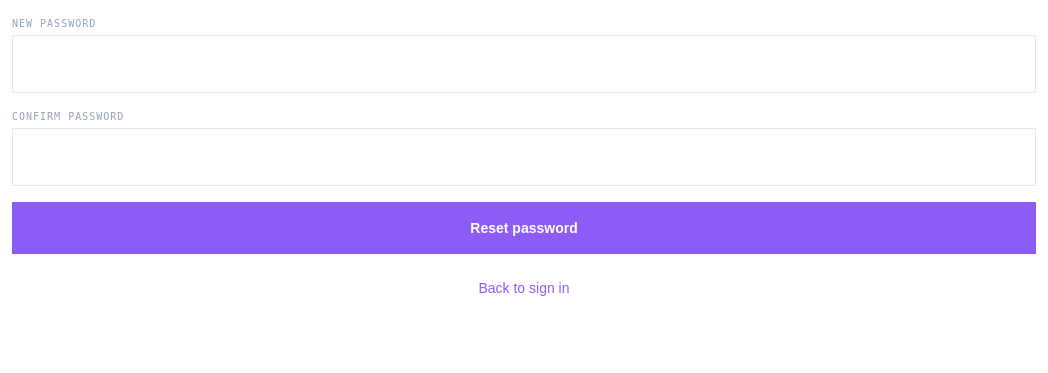
Test: ResetPasswordForm › shows an error message when reset fails
Type "newpassword123" into the password field labelled "New password" at [524, 64], box [12,35,1036,93]
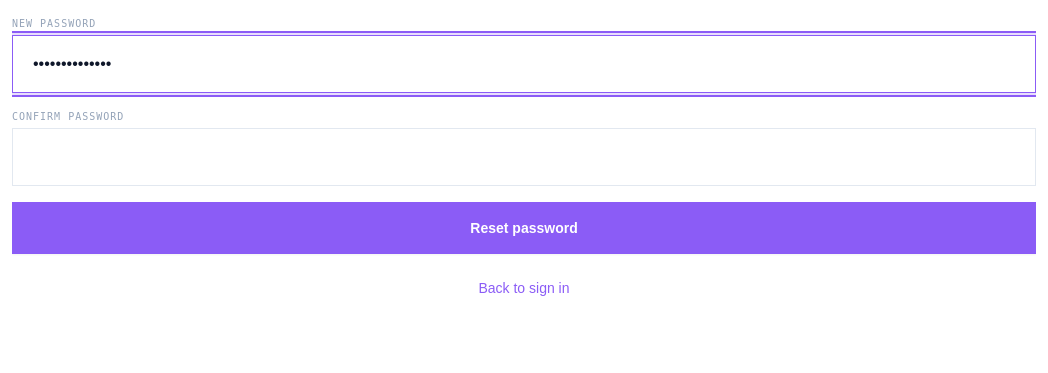
Type "newpassword123" into the password field labelled "Confirm password" at [524, 157], box [12,128,1036,186]
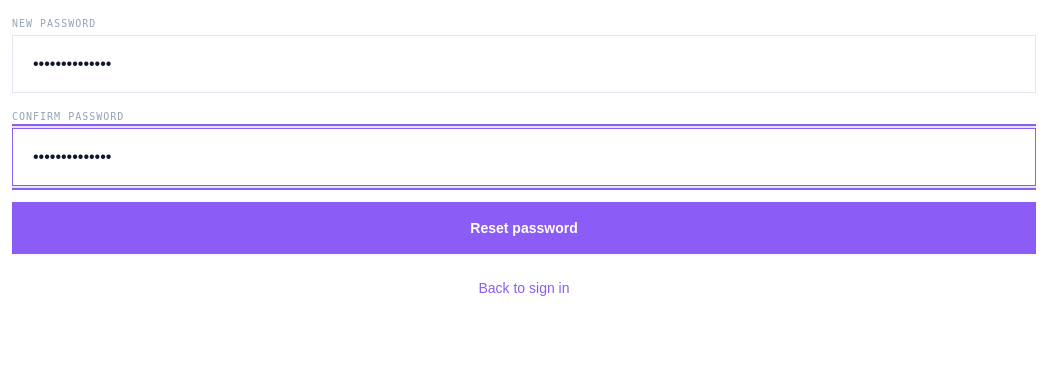
Click the button "Reset password" at [524, 228], box [12,202,1036,254]
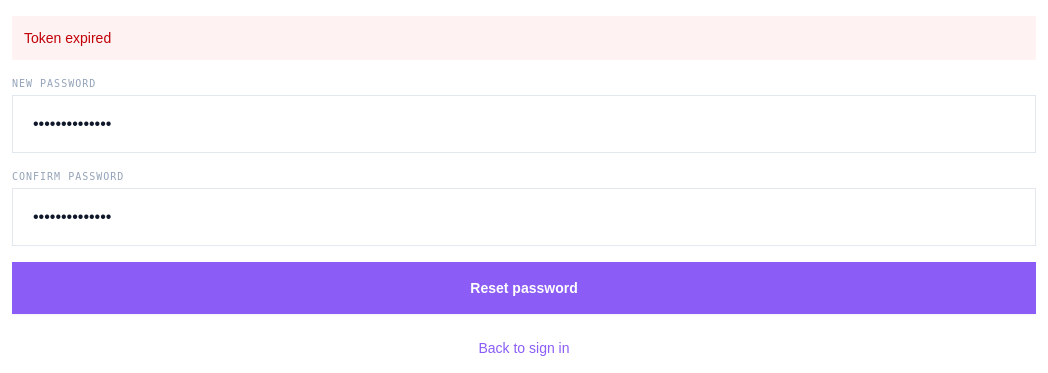
Check: the text "Token expired" is shown, box [12,16,1036,60]
